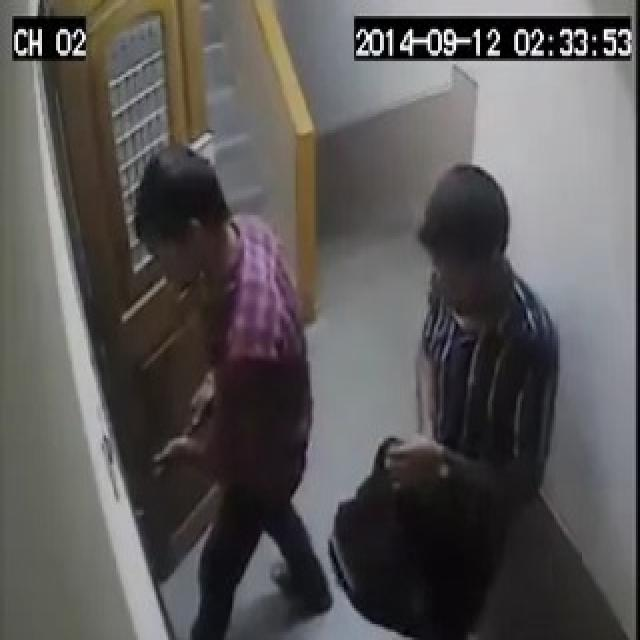thief: (103, 132, 559, 640)
